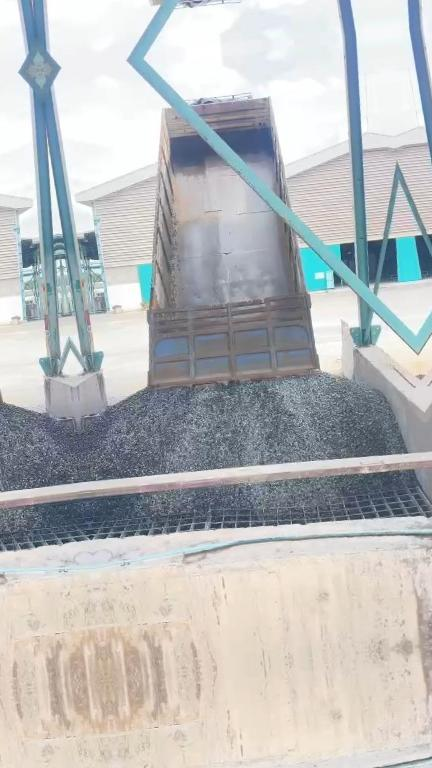gravel: (79, 373, 405, 480), (88, 472, 415, 517)
